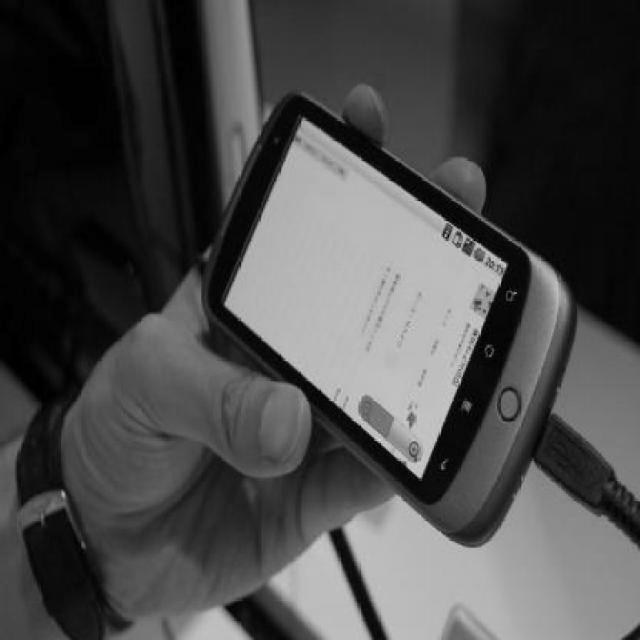fake: (194, 84, 588, 530)
